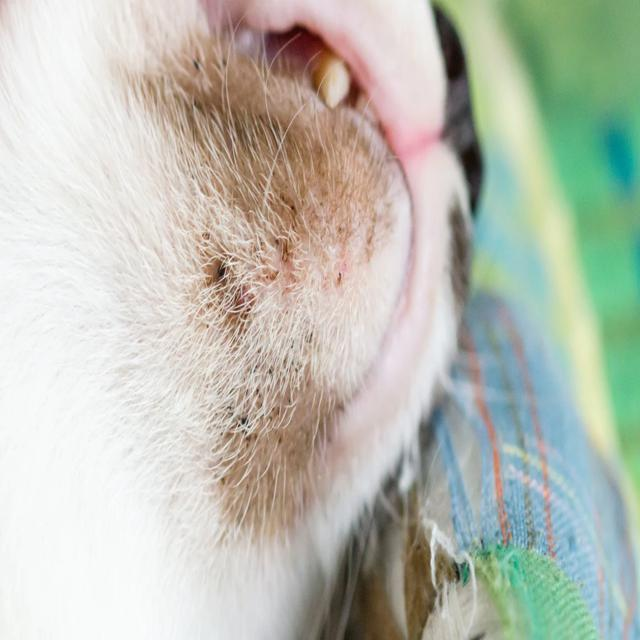acne: (192, 211, 302, 345)
